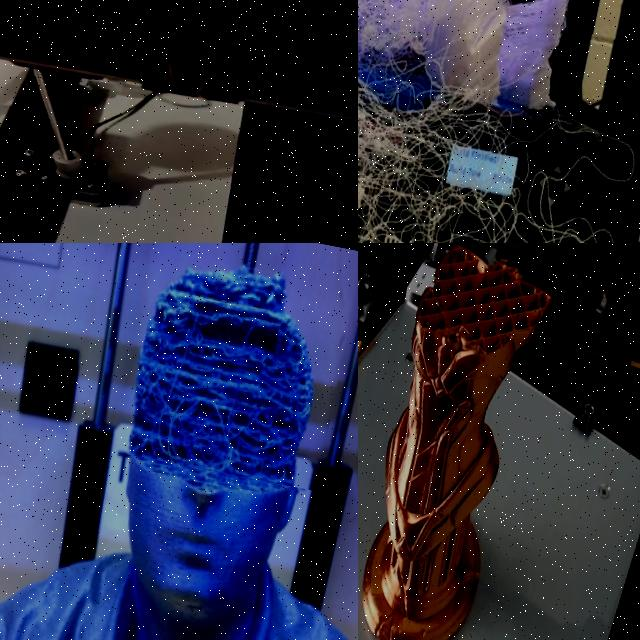spaghetti: (358, 0, 640, 243), (122, 243, 358, 491)
